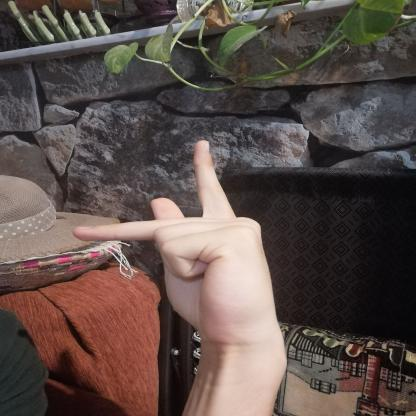DHAA: (55, 129, 289, 350)
